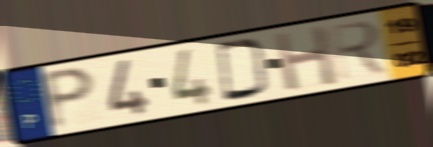4: (170, 45, 216, 109), (107, 56, 151, 119)
D: (214, 37, 272, 103)
H: (271, 22, 340, 93)
P: (40, 65, 98, 133)
R: (326, 18, 392, 82)
